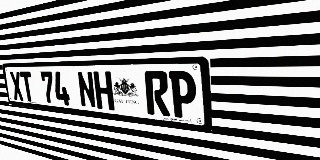4: (52, 71, 70, 106)
7: (39, 71, 57, 104)
H: (93, 71, 115, 111)
N: (76, 71, 97, 109)
P: (169, 71, 197, 119)
R: (144, 71, 170, 117)
T: (19, 71, 35, 102)
X: (9, 71, 24, 101)
